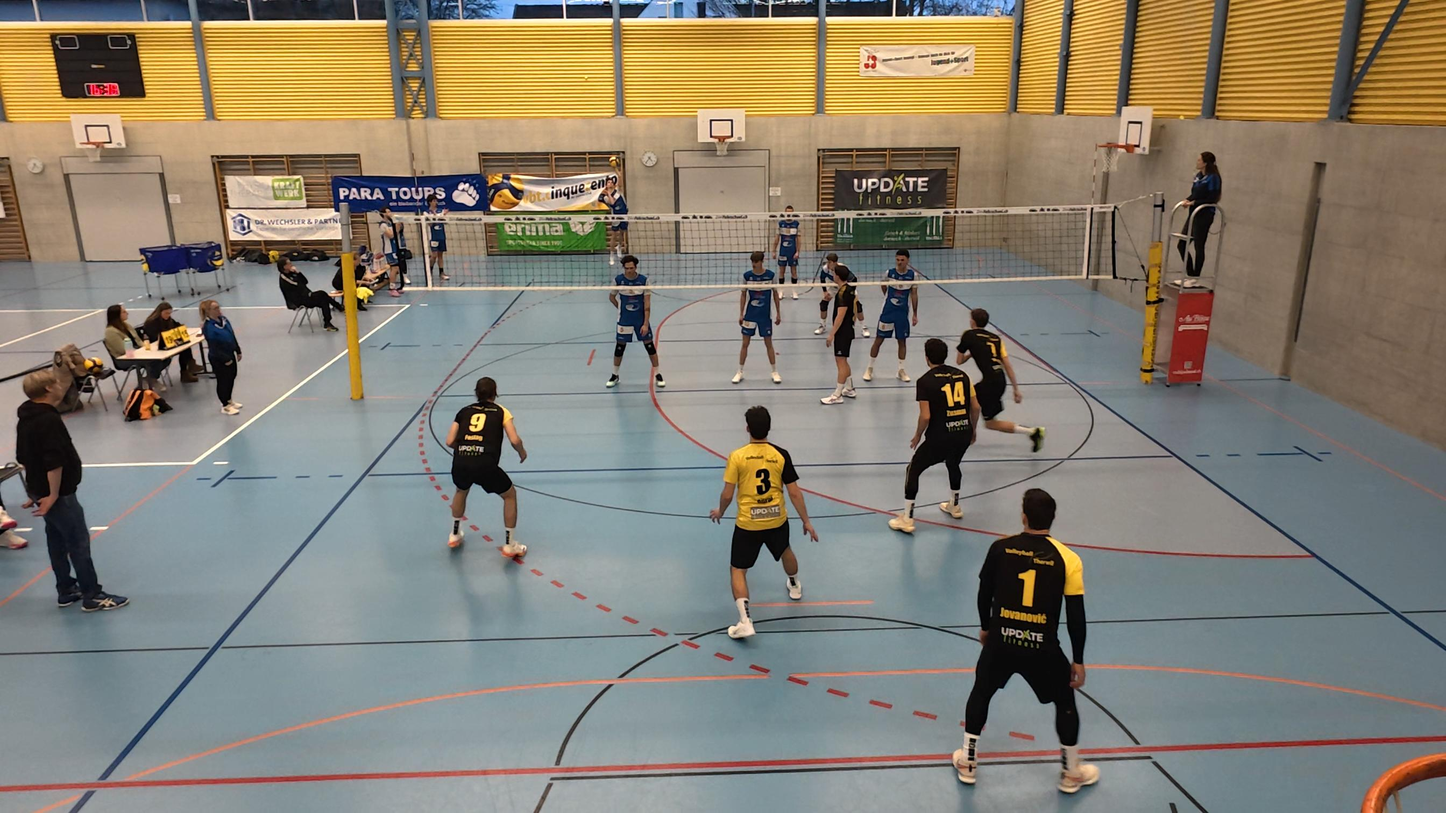battuta: (595, 156, 636, 273)
